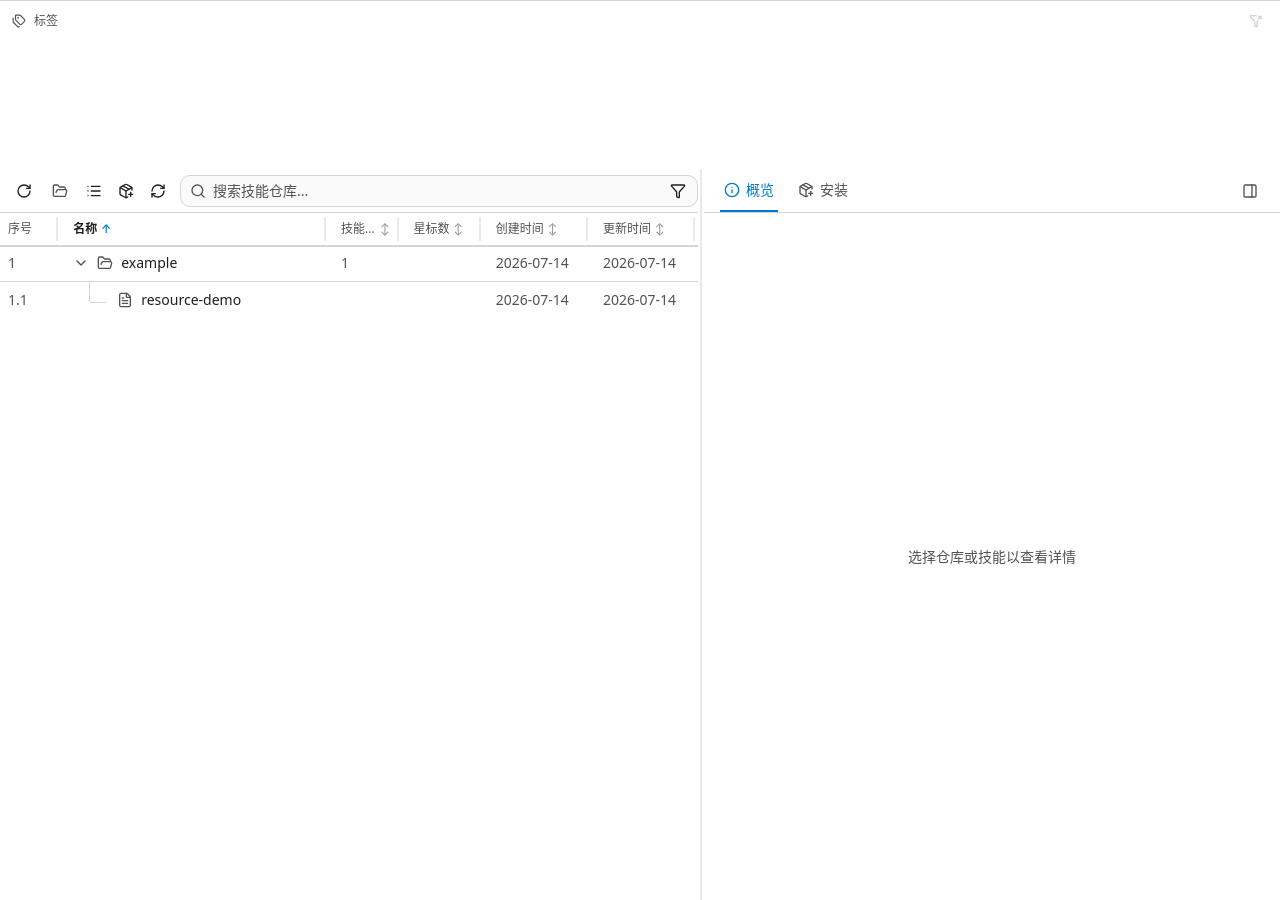
Scenario: ResourceLibraryView delete › shows per-skill source update for GitHub metadata without a stored URL
Press + in the element named "技能列表", box [0,169,698,318]
Right-click the row "1.1 resource-demo 2026-07-14 2026-07-14" at (532, 300), box [0,282,698,318]
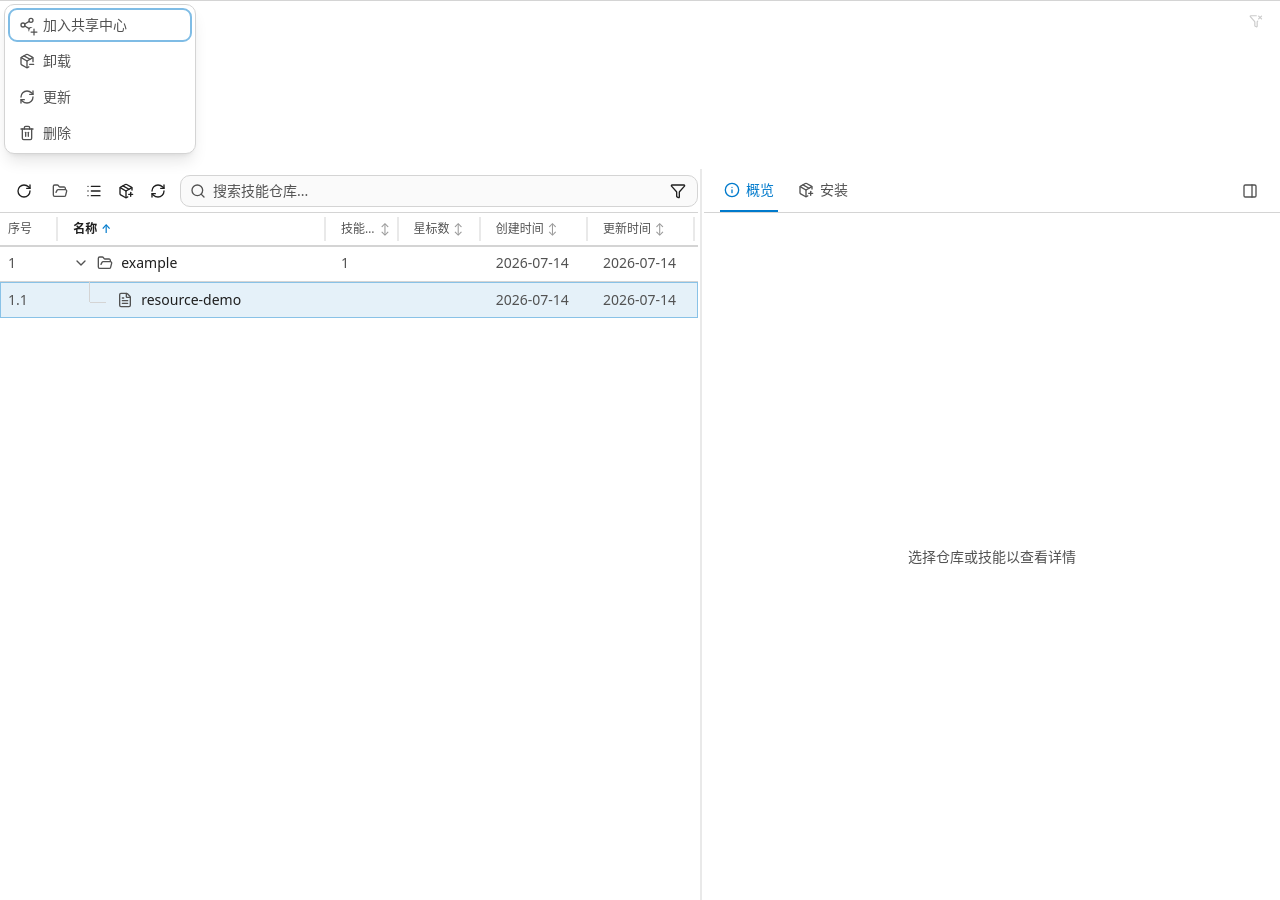
Now the menu item "更新" is shown, box [9,81,191,113]
